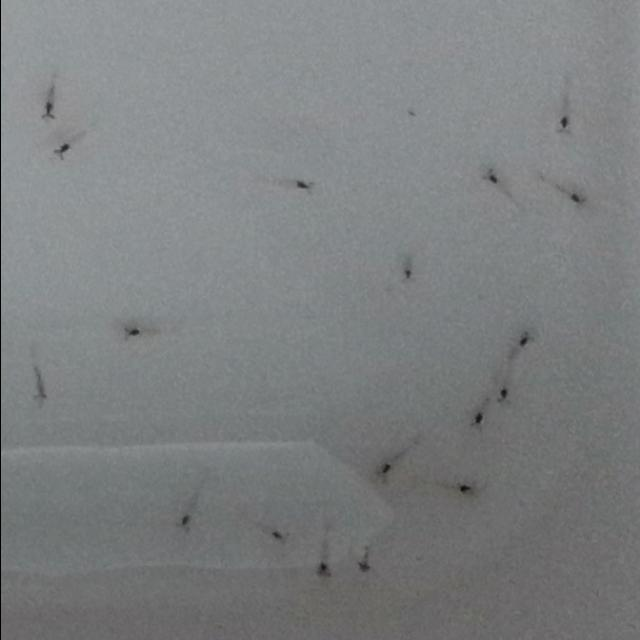shrimp-seed: (35, 95, 59, 122), (31, 369, 47, 406), (311, 554, 332, 578), (268, 526, 290, 548), (552, 113, 574, 135), (172, 511, 192, 535), (372, 460, 392, 484), (354, 550, 372, 576), (455, 478, 478, 498), (49, 142, 71, 162), (478, 166, 498, 186), (566, 191, 586, 211), (294, 178, 313, 198), (468, 408, 484, 431), (120, 324, 140, 342), (492, 386, 510, 406), (516, 329, 532, 349), (398, 266, 413, 286)
